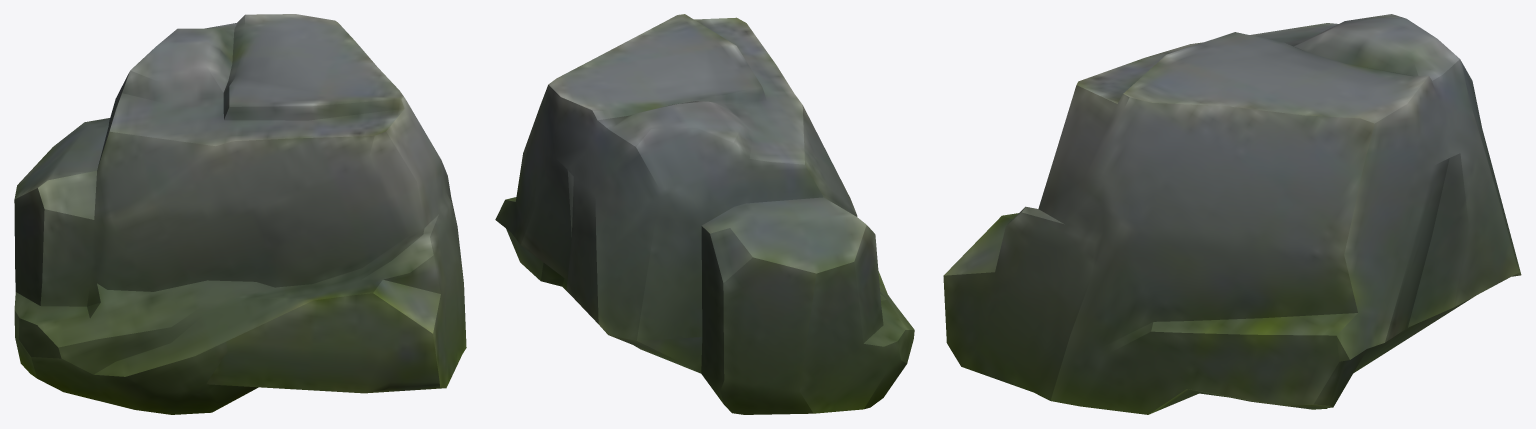
File: Boulder_3.glb
3 views of the same model, side by side, from view 1: azimuth 30°, elevation 25°; view 2: azimuth 150°, elevation 25°; view 3: azimuth 270°, elevation 25° (orthographic). The views are drawn at different scales.
Parts seen in each view (by area): view 1: Rock_Medium_3; view 2: Rock_Medium_3; view 3: Rock_Medium_3.
Boxes of the visible parts, <box> form: Rock_Medium_3: <box>14,14,466,414</box>; Rock_Medium_3: <box>495,14,914,414</box>; Rock_Medium_3: <box>943,14,1521,414</box>.
Size of the model in its own units: 3.42 by 2.32 by 3.48.
Materials: 1 (1 with a texture image).
